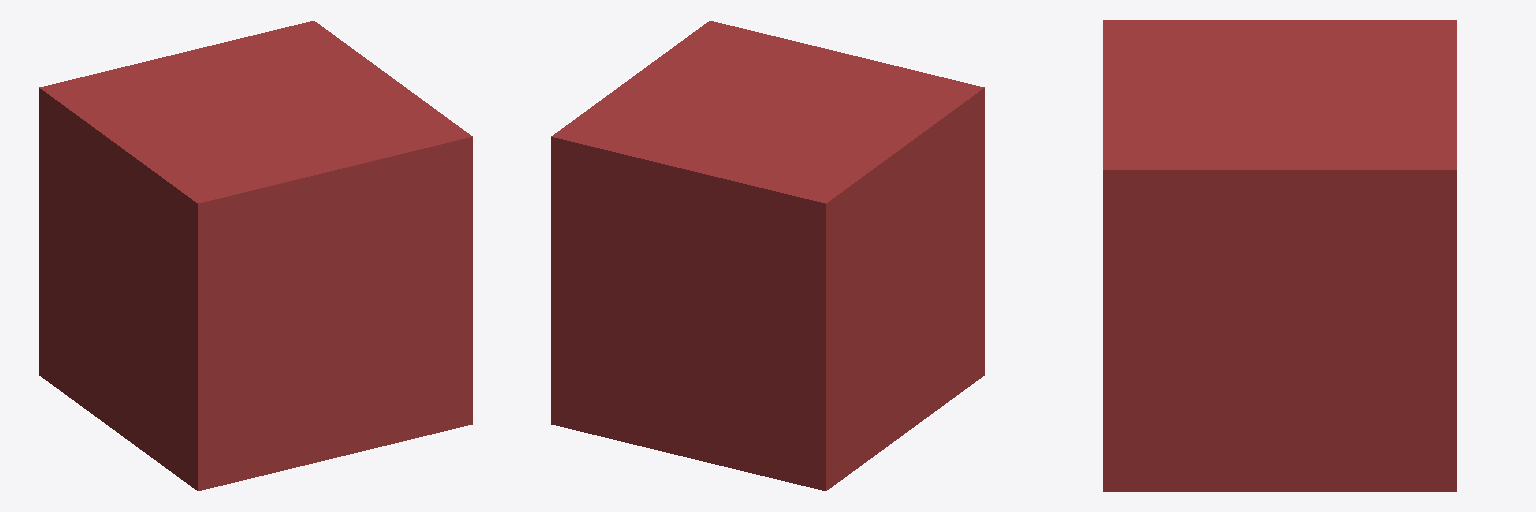
URDF robot description (cage_01):
<robot name="cage_01">
  <material name="paint"><color rgba="0.7 0.3 0.3 1" /></material>
  <link name="base">
    <inertial><origin xyz="0 0 0" rpy="0 0 0" /><mass value="2" /><inertia ixx="0.01" ixy="0" ixz="0" iyy="0.01" iyz="0" izz="0.01" /></inertial>
    <visual name="side_px"><origin xyz="0.055 0 0.06" rpy="0 0 0" /><geometry><box size="0.01 0.12 0.12" /></geometry><material name="paint" /></visual>
    <collision name="side_px"><origin xyz="0.055 0 0.06" rpy="0 0 0" /><geometry><box size="0.01 0.12 0.12" /></geometry></collision>
    <visual name="side_nx"><origin xyz="-0.055 0 0.06" rpy="0 0 0" /><geometry><box size="0.01 0.12 0.12" /></geometry><material name="paint" /></visual>
    <collision name="side_nx"><origin xyz="-0.055 0 0.06" rpy="0 0 0" /><geometry><box size="0.01 0.12 0.12" /></geometry></collision>
    <visual name="side_py"><origin xyz="0 0.055 0.06" rpy="0 0 0" /><geometry><box size="0.1 0.01 0.12" /></geometry><material name="paint" /></visual>
    <collision name="side_py"><origin xyz="0 0.055 0.06" rpy="0 0 0" /><geometry><box size="0.1 0.01 0.12" /></geometry></collision>
    <visual name="side_ny"><origin xyz="0 -0.055 0.06" rpy="0 0 0" /><geometry><box size="0.1 0.01 0.12" /></geometry><material name="paint" /></visual>
    <collision name="side_ny"><origin xyz="0 -0.055 0.06" rpy="0 0 0" /><geometry><box size="0.1 0.01 0.12" /></geometry></collision>
    <visual name="roof"><origin xyz="0 0 0.115" rpy="0 0 0" /><geometry><box size="0.1 0.1 0.01" /></geometry><material name="paint" /></visual>
    <collision name="roof"><origin xyz="0 0 0.115" rpy="0 0 0" /><geometry><box size="0.1 0.1 0.01" /></geometry></collision>
  </link>
</robot>

--- Facts derived from the render (not from the file) ---
The picture shows the robot from 3 angles, left to right: view 1: azimuth 30°, elevation 25°; view 2: azimuth 150°, elevation 25°; view 3: azimuth 270°, elevation 25°; orthographic projection.
Robot: cage_01 — 1 links, 0 joints (none); root link base; default pose: every joint at zero.
Visible links, largest first — view 1: base; view 2: base; view 3: base.
Link boxes in pixels (box(x1,y1,x2,y2)): base: box(39, 21, 472, 490); base: box(551, 21, 984, 490); base: box(1103, 20, 1456, 491).
Bounding box of the posed robot: 0.12 × 0.12 × 0.12 m (x, y, z).
Geometry: primitives only (box / cylinder / sphere), no mesh files.
